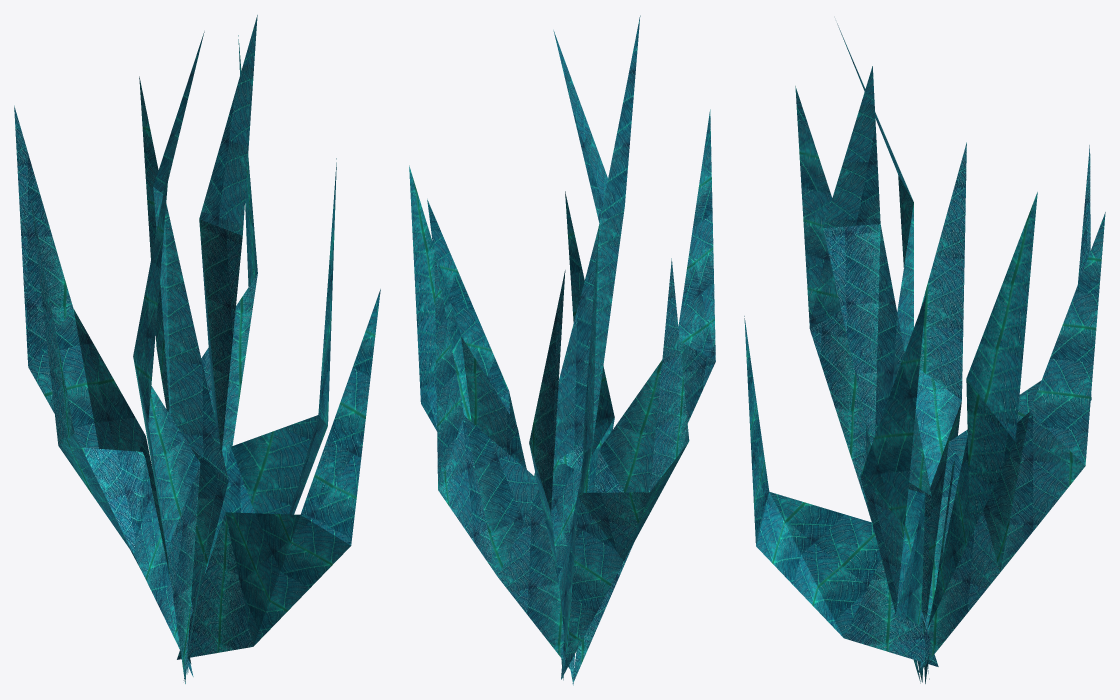
File: FougereBleue.dae
The picture shows the model from 3 angles, left to right: view 1: azimuth 30°, elevation 25°; view 2: azimuth 150°, elevation 25°; view 3: azimuth 270°, elevation 25°; orthographic projection. The views are drawn at different scales.
Parts seen in each view (by area): view 1: SketchUp (×9); view 2: SketchUp (×9); view 3: SketchUp (×9).
Part boxes in pixels (bbox=[...]): SketchUp (×9): bbox=[14, 15, 380, 683]; SketchUp (×9): bbox=[409, 15, 715, 685]; SketchUp (×9): bbox=[744, 23, 1105, 683].
Size of the model in its own units: 1.37 by 1.59 by 3.2.
Materials: 27 (27 with a texture image).
